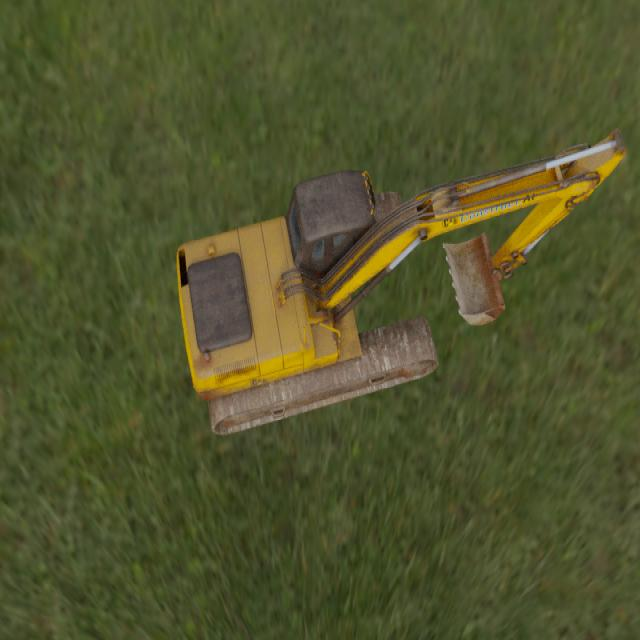excavator: (176, 126, 627, 434)
